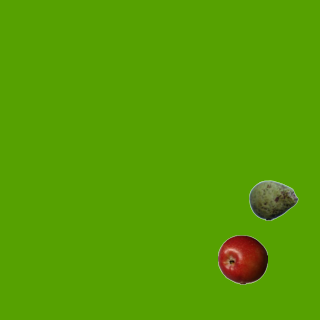Apple Braeburn: (217, 234, 267, 284)
Pear Stone: (248, 175, 298, 225)
